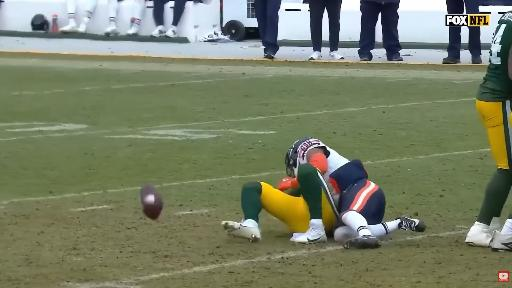Helmet: (285, 138, 312, 176), (31, 14, 49, 31)
Jersey: (477, 11, 511, 101), (298, 139, 349, 180)
Player: (223, 138, 425, 248), (465, 11, 512, 247), (492, 214, 511, 251)
